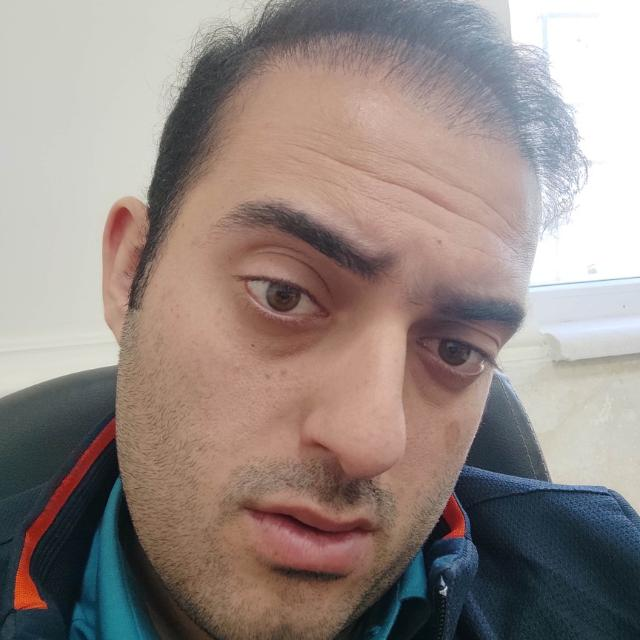forehead: (380, 177, 446, 221), (456, 180, 500, 242), (314, 140, 364, 180), (397, 147, 435, 185)
